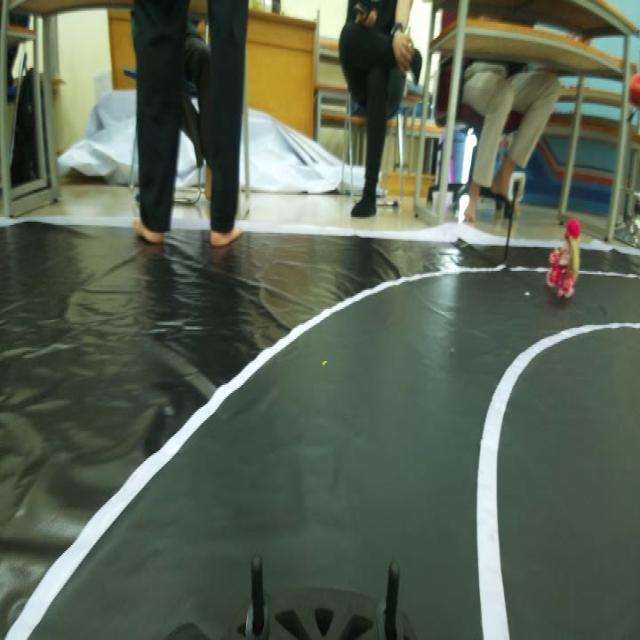pedestrian: (548, 208, 583, 306)
